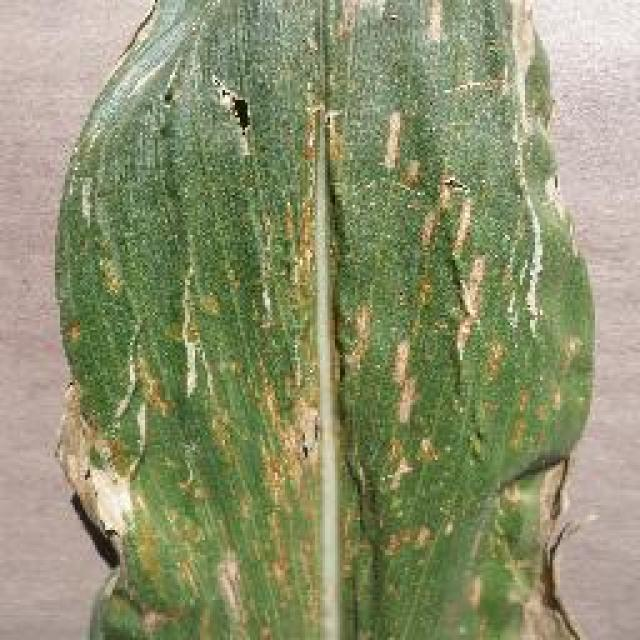Corn___Cercospora_leaf_spot Gray_leaf_spot: (28, 0, 622, 640)
